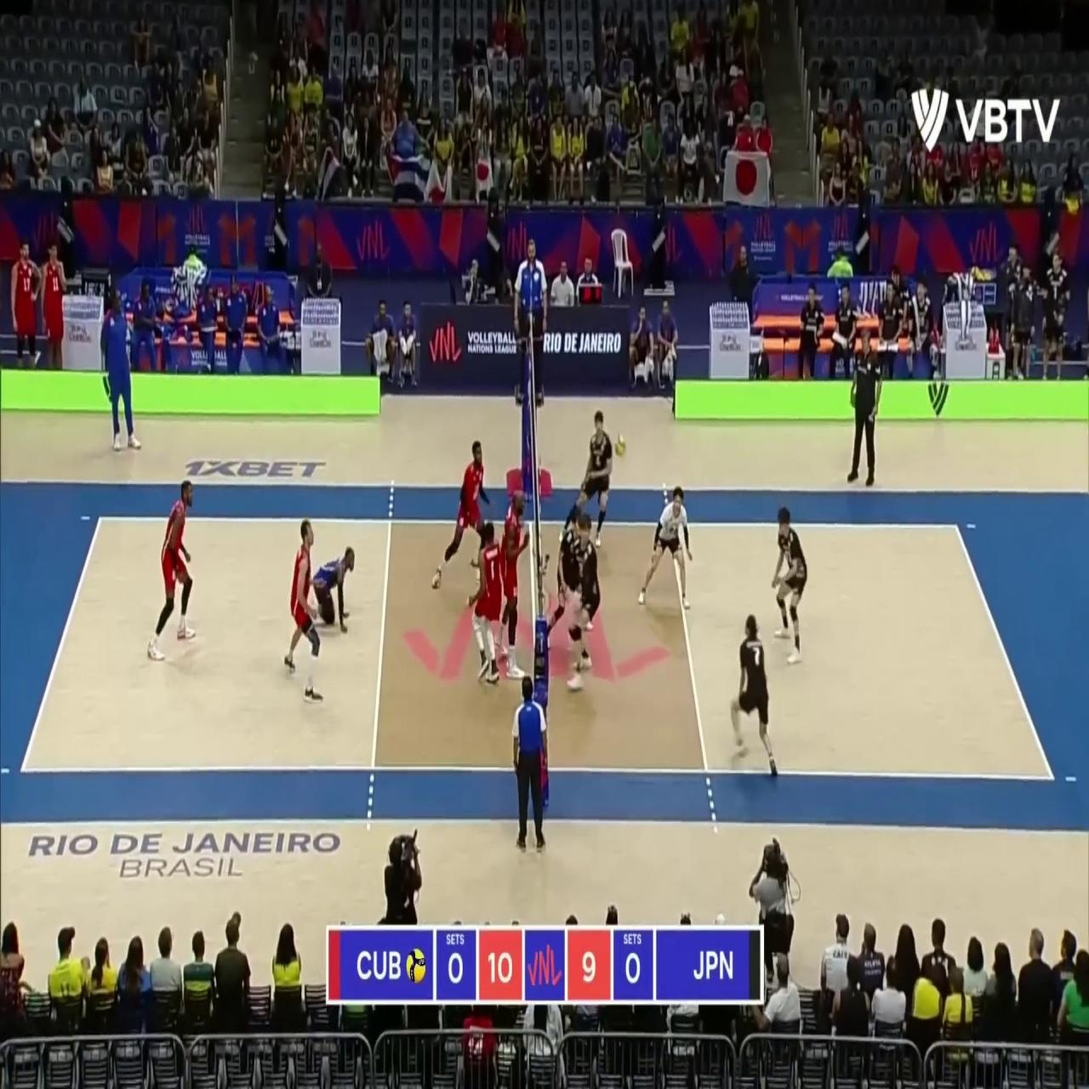ball: (615, 434, 626, 457)
